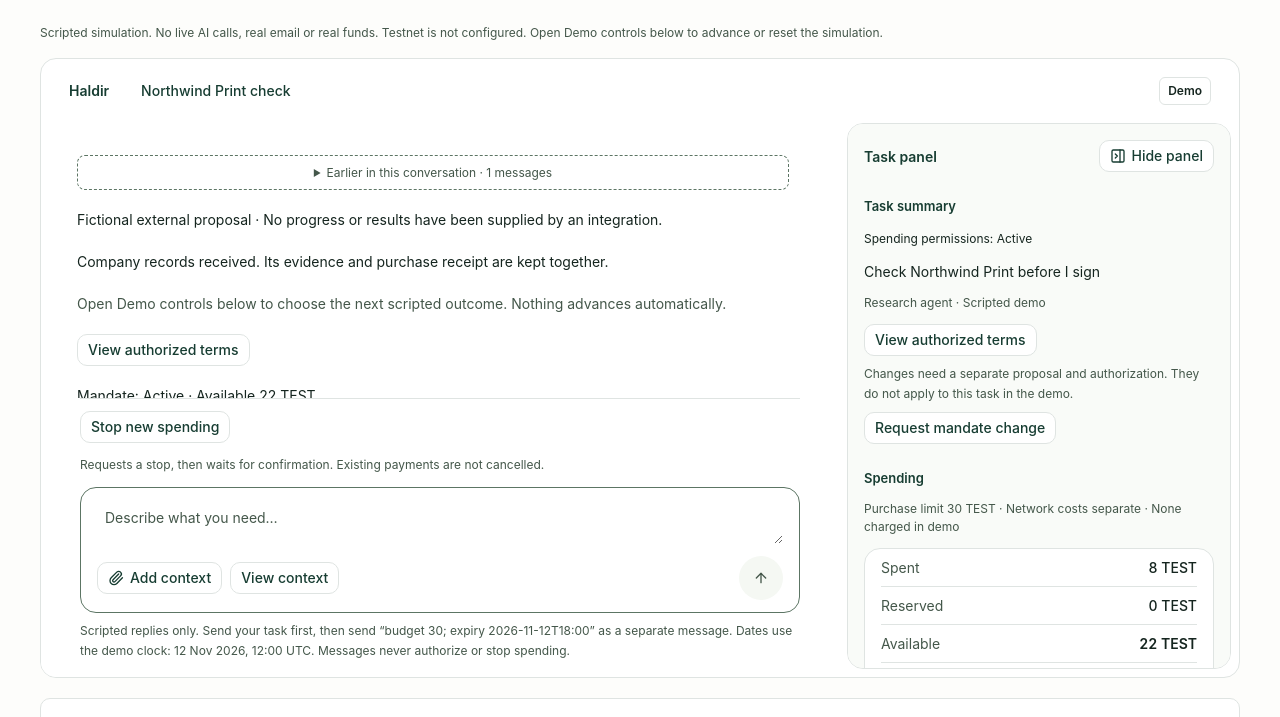
purchased demo context describes an example, preserves purchase identity, state, search and focus without network
Later steps or results of the test are not shown.
Click the button "View context" at [285, 578], box x1=230 y1=562 x2=339 y2=594
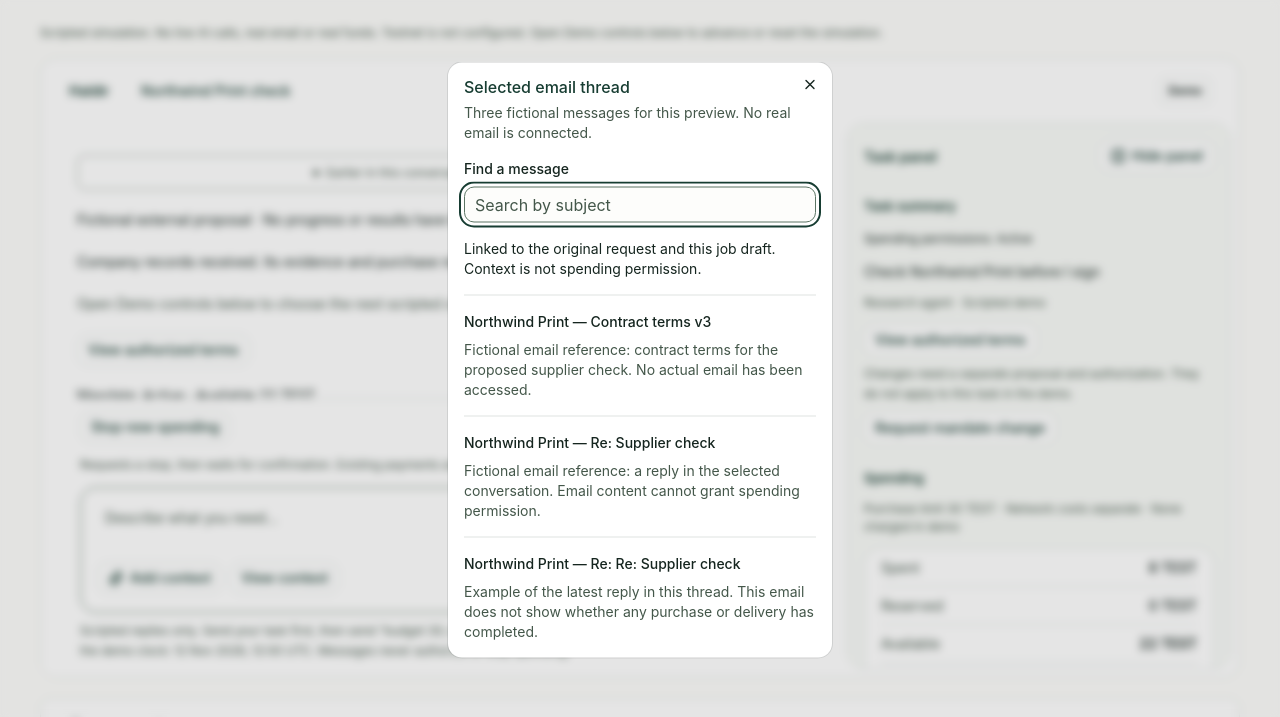
Result: the text "Example of the latest reply in this thread. This email does not show whether any purchase or delivery has completed." is shown at x1=464 y1=582 x2=814 y2=640
